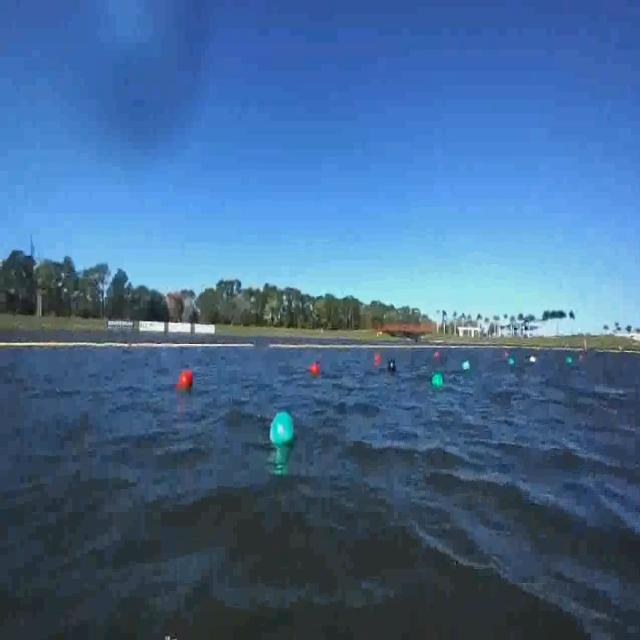black-buoy: (387, 355, 397, 381)
green-buoy: (272, 411, 296, 448), (432, 372, 442, 388), (462, 360, 470, 371)
red-buoy: (178, 370, 193, 390), (310, 362, 320, 376)
red-column-buoy: (374, 353, 379, 367)
